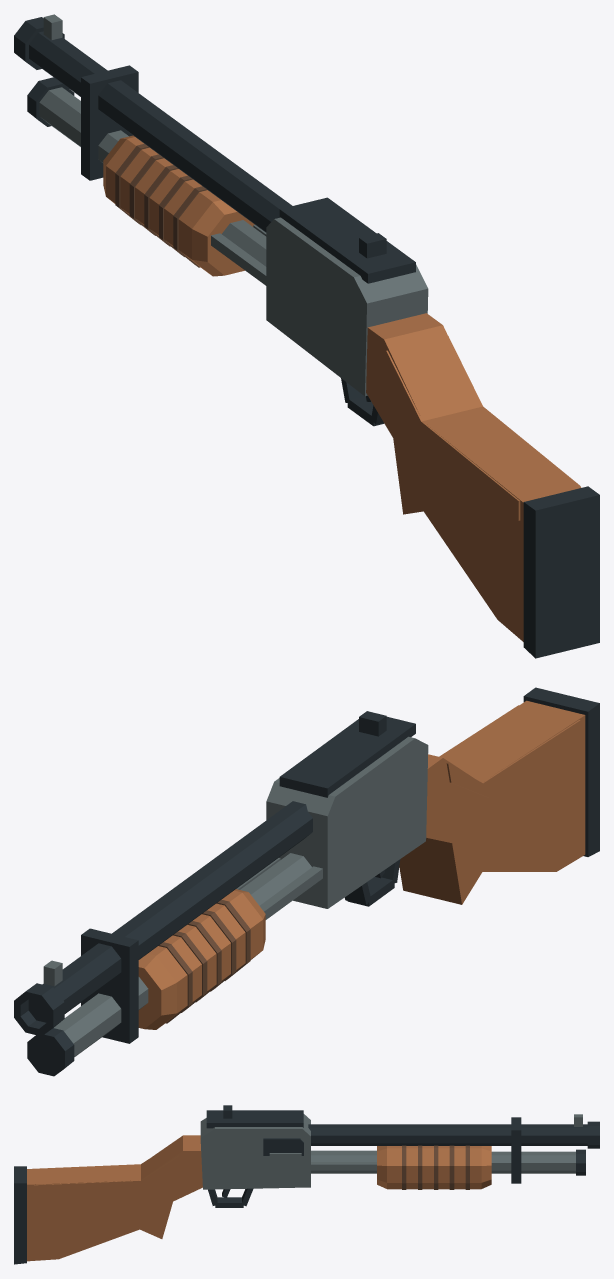
3 renders of one model, top to bottom at view 1: azimuth 30°, elevation 25°; view 2: azimuth 150°, elevation 25°; view 3: azimuth 270°, elevation 25°, orthographic. The views are drawn at different scales.
Visible parts, largest first — view 1: Stock_0, Receiver_3, Stock_pad_1, Barrel_11, Pump_16, Receiver_top_4, Magazine_tube_12, Stock_cheek_2, Barrel_clamp_24, Action_bar_23, Barrel_muzzle_13; view 2: Stock_0, Receiver_3, Barrel_11, Pump_16, Receiver_top_4, Magazine_tube_12, Stock_pad_1, Barrel_clamp_24, Stock_cheek_2, Magazine_cap_15, Barrel_muzzle_13, Action_bar_23 (+7 smaller); view 3: Stock_0, Receiver_3, Barrel_11, Pump_16, Magazine_tube_12, Stock_cheek_2, Receiver_top_4, Stock_pad_1, Barrel_clamp_24, Ejection_port_5, Action_bar_22, Barrel_muzzle_13 (+3 smaller).
Part boxes in pixels (left/top/right/bottom): Stock_0: left=366, top=313, right=581, bottom=641; Receiver_3: left=266, top=217, right=428, bottom=396; Stock_pad_1: left=523, top=486, right=599, bottom=658; Barrel_11: left=29, top=31, right=292, bottom=232; Pump_16: left=103, top=135, right=254, bottom=276; Receiver_top_4: left=279, top=197, right=415, bottom=283; Magazine_tube_12: left=39, top=87, right=266, bottom=266; Stock_cheek_2: left=386, top=336, right=580, bottom=520; Barrel_clamp_24: left=81, top=65, right=138, bottom=180; Action_bar_23: left=211, top=233, right=266, bottom=285; Barrel_muzzle_13: left=14, top=17, right=64, bottom=69; Stock_0: left=399, top=700, right=585, bottom=904; Receiver_3: left=266, top=736, right=428, bottom=908; Barrel_11: left=28, top=801, right=312, bottom=1022; Pump_16: left=138, top=889, right=265, bottom=1029; Receiver_top_4: left=279, top=716, right=415, bottom=797; Magazine_tube_12: left=54, top=853, right=311, bottom=1056; Stock_pad_1: left=523, top=687, right=599, bottom=856; Barrel_clamp_24: left=81, top=928, right=138, bottom=1043; Stock_cheek_2: left=439, top=705, right=580, bottom=797; Magazine_cap_15: left=27, top=1028, right=74, bottom=1076; Barrel_muzzle_13: left=14, top=983, right=64, bottom=1036; Action_bar_23: left=260, top=866, right=322, bottom=919; Stock_0: left=27, top=1135, right=202, bottom=1261; Receiver_3: left=200, top=1114, right=310, bottom=1189; Barrel_11: left=308, top=1124, right=587, bottom=1145; Pump_16: left=377, top=1146, right=491, bottom=1189; Magazine_tube_12: left=311, top=1151, right=575, bottom=1173; Stock_cheek_2: left=34, top=1156, right=178, bottom=1195; Receiver_top_4: left=206, top=1110, right=303, bottom=1128; Stock_pad_1: left=14, top=1166, right=26, bottom=1264; Barrel_clamp_24: left=511, top=1117, right=521, bottom=1183; Ejection_port_5: left=263, top=1138, right=303, bottom=1155; Action_bar_22: left=311, top=1162, right=376, bottom=1169; Barrel_muzzle_13: left=587, top=1121, right=599, bottom=1148.
Size of the model in its own units: 0.0942 by 0.328 by 1.18.
